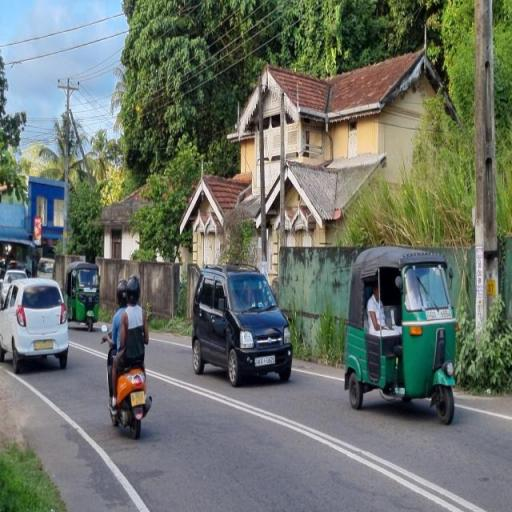double_white_line: (0, 350, 149, 512)
